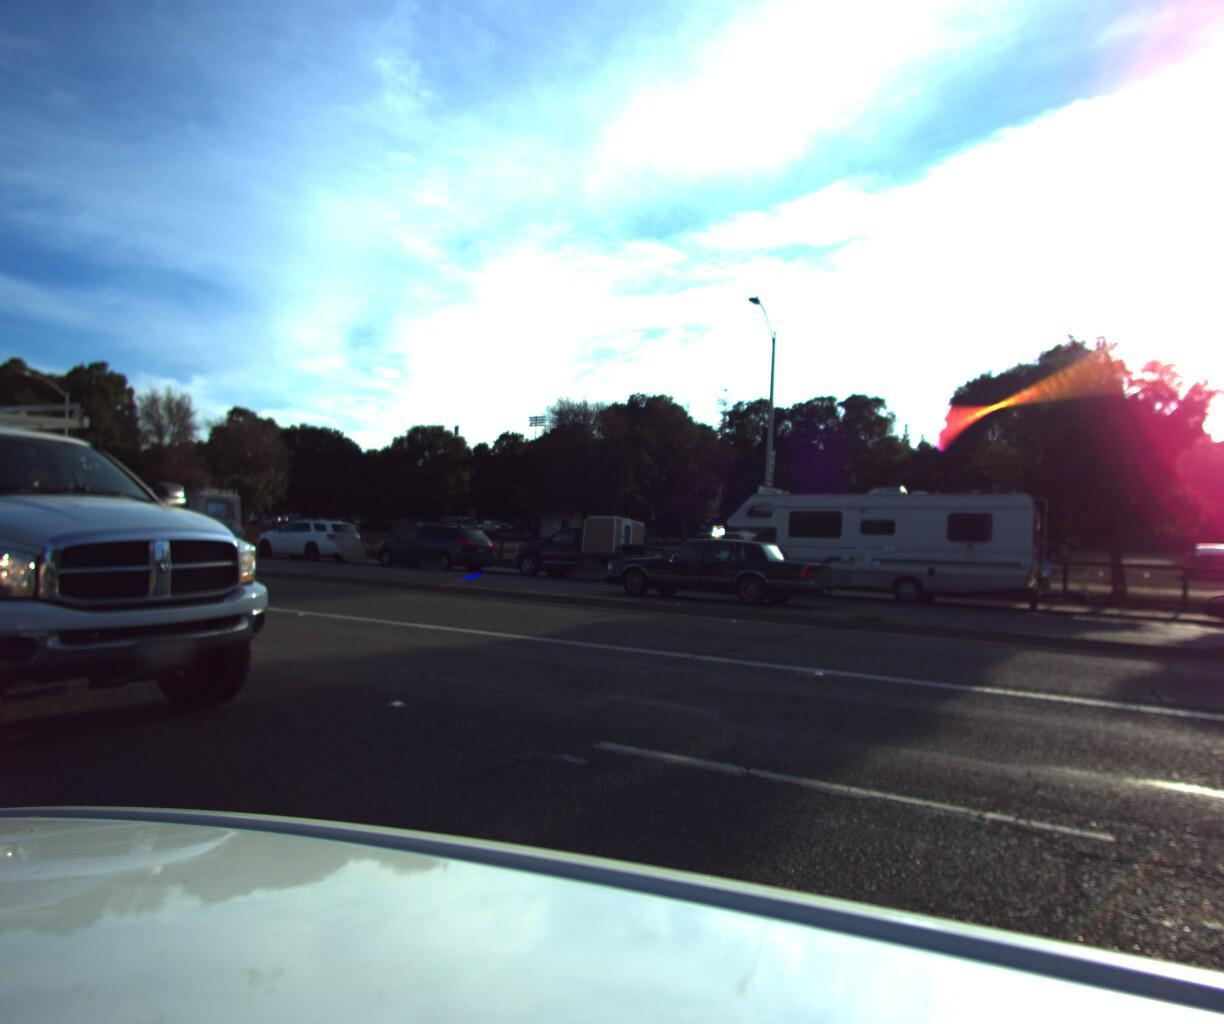car: (0, 328, 336, 823), (594, 528, 843, 610), (505, 505, 687, 585), (366, 515, 498, 570), (252, 514, 365, 562), (1197, 555, 1224, 643)
other_vehicle: (703, 475, 1060, 617), (84, 479, 258, 563)
